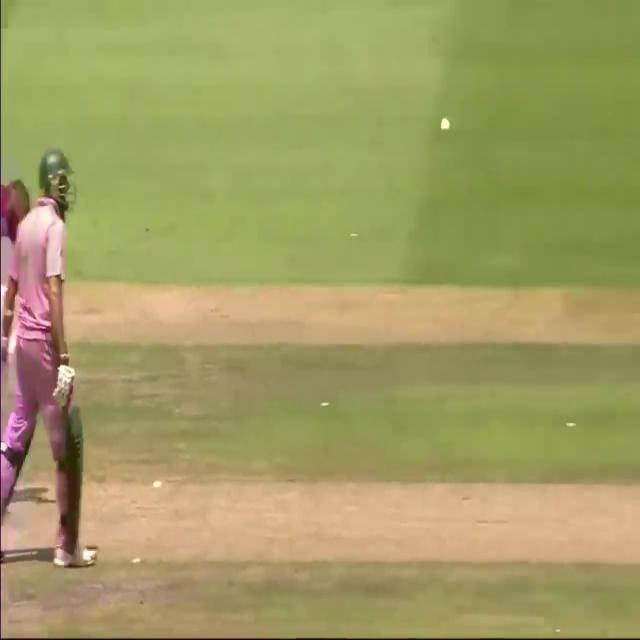Ball: (0, 149, 85, 575)
